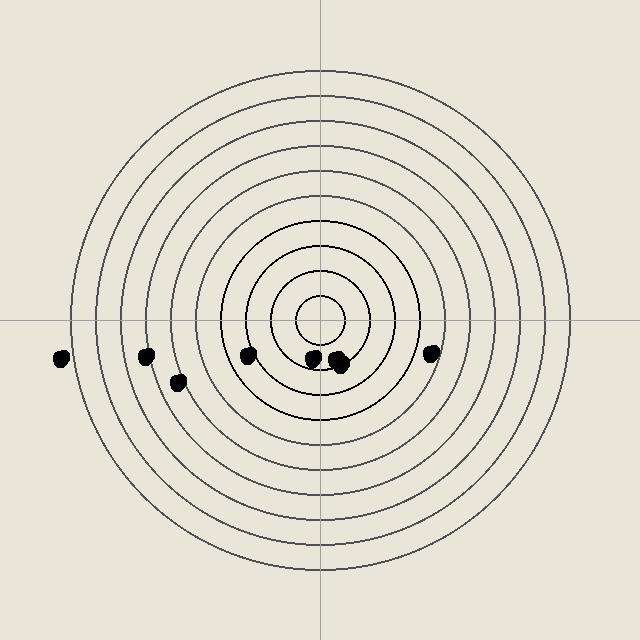horizontal_scatter: (420, 343, 440, 363), (135, 346, 155, 366), (330, 354, 350, 374), (325, 349, 345, 369), (237, 345, 257, 365), (167, 372, 187, 392), (302, 348, 322, 368), (50, 348, 70, 368)
